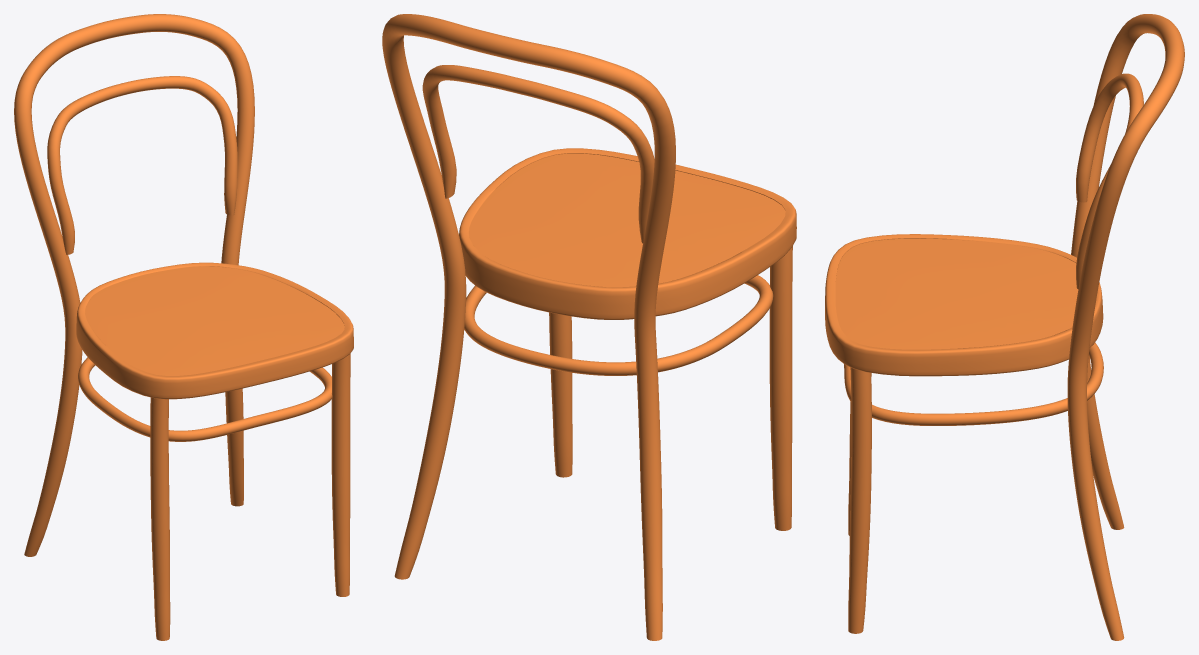
Rendered from model_Classic_Chair.fbx.
3 renders of one model, left to right at view 1: azimuth 30°, elevation 25°; view 2: azimuth 150°, elevation 25°; view 3: azimuth 270°, elevation 25°, orthographic. The views are drawn at different scales.
Parts seen in each view (by area): view 1: Thonet_214; view 2: Thonet_214; view 3: Thonet_214.
Part boxes in pixels (x1,y1,x2,y2): Thonet_214: (14, 14, 353, 640); Thonet_214: (382, 14, 796, 640); Thonet_214: (825, 14, 1184, 640).
Size of the model in its own units: 42.89 by 85.31 by 51.9.
